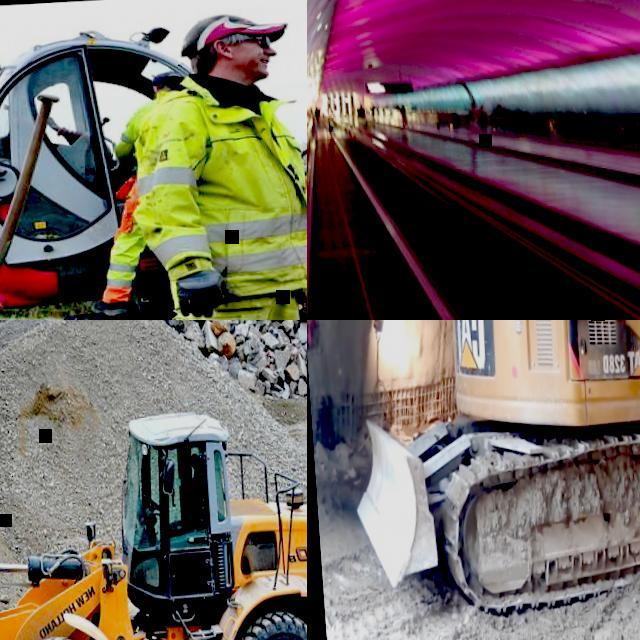vest: (129, 76, 307, 301), (108, 136, 307, 293), (124, 89, 202, 164)
